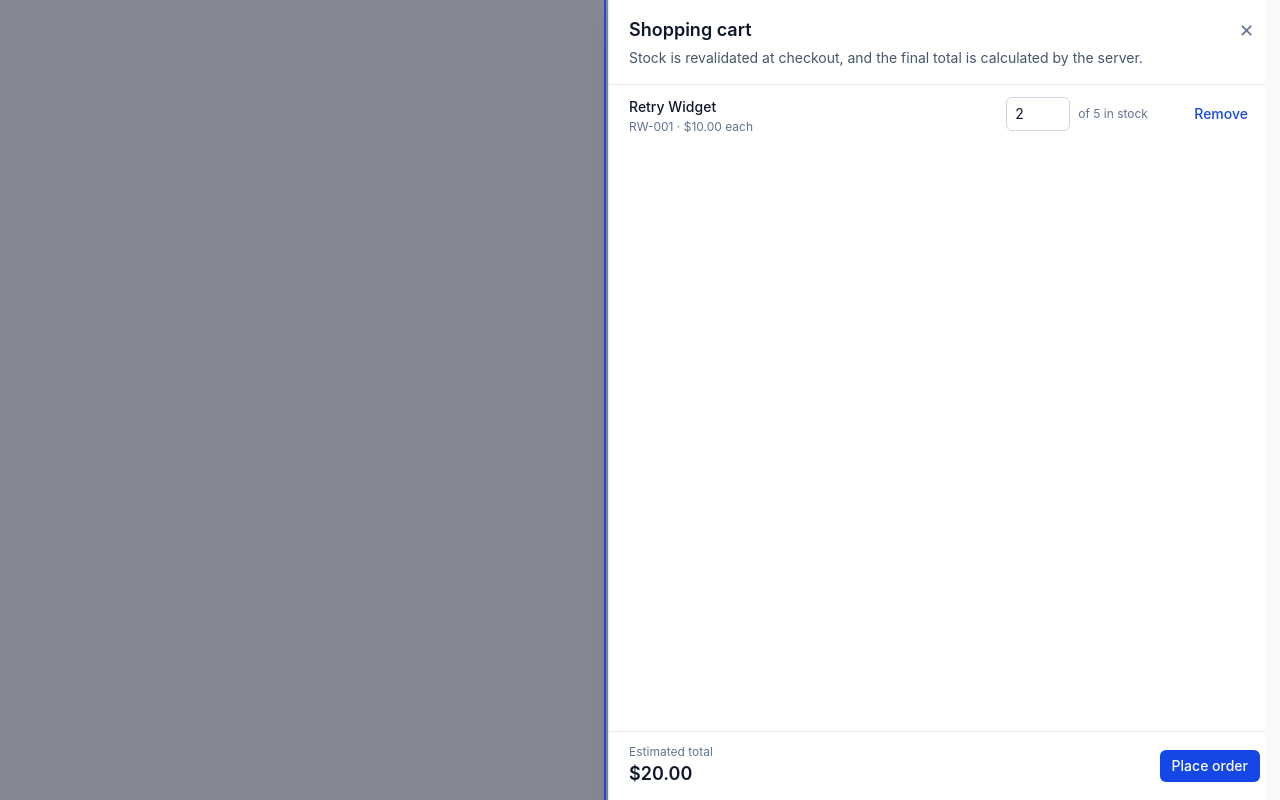
Test: CartDrawer › shows payment failure distinctly without clearing the cart
Click the button "Place order".
click(1210, 766)  # box [1160, 750, 1260, 782]
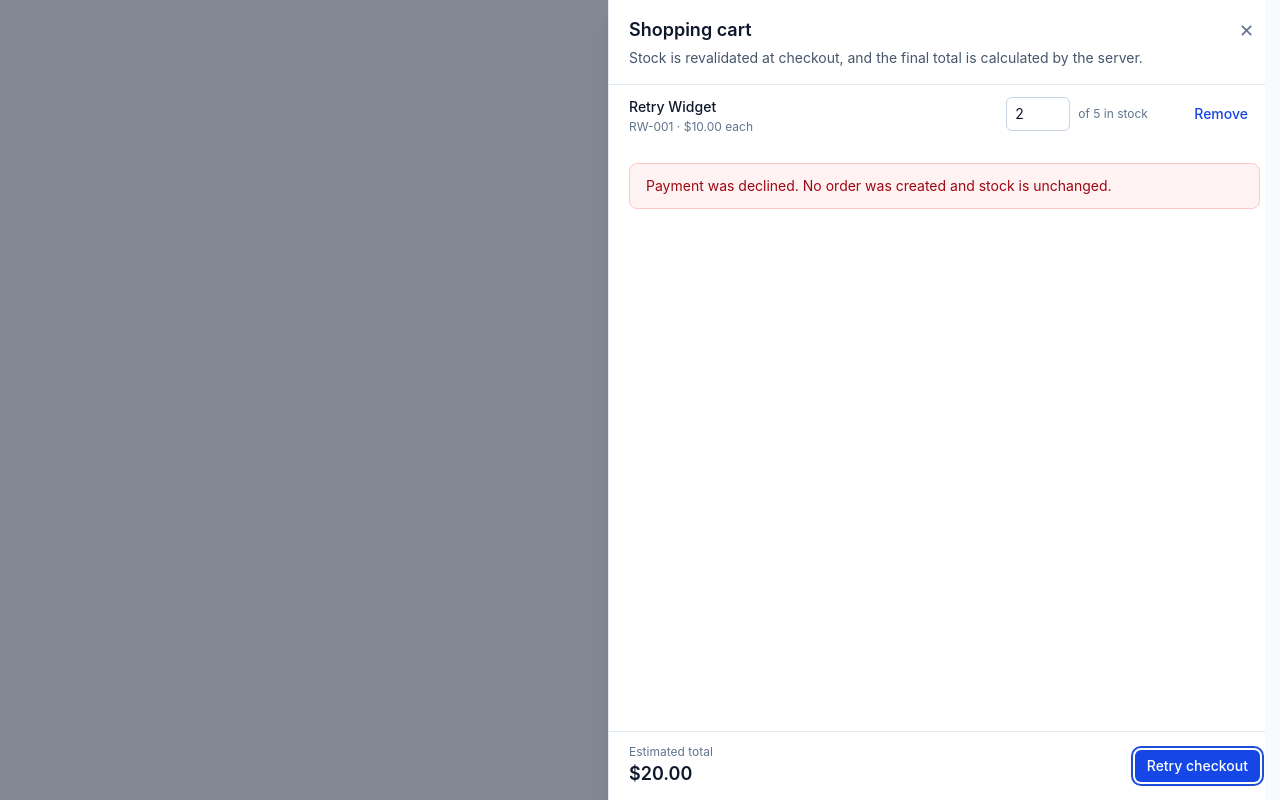
Check: the link "Retry Widget" is shown, box [629, 98, 716, 115]
Check: the text "Payment was declined. No order was created and stock is unchanged." is shown, box [629, 163, 1260, 209]
